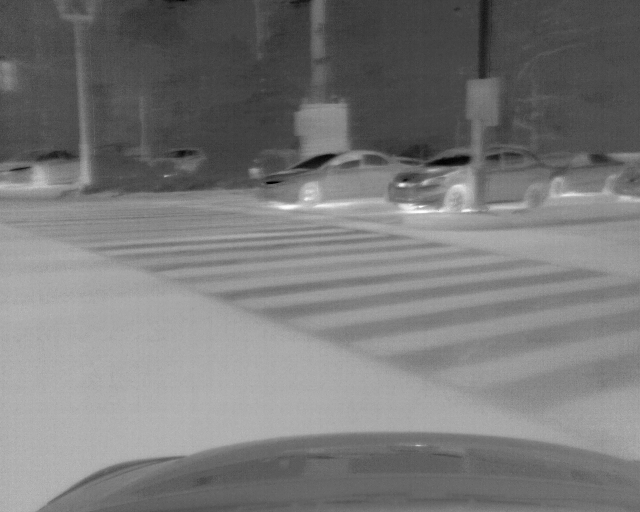car: (388, 144, 555, 211), (251, 147, 411, 207), (543, 149, 623, 199), (1, 150, 82, 195), (152, 147, 209, 176)
